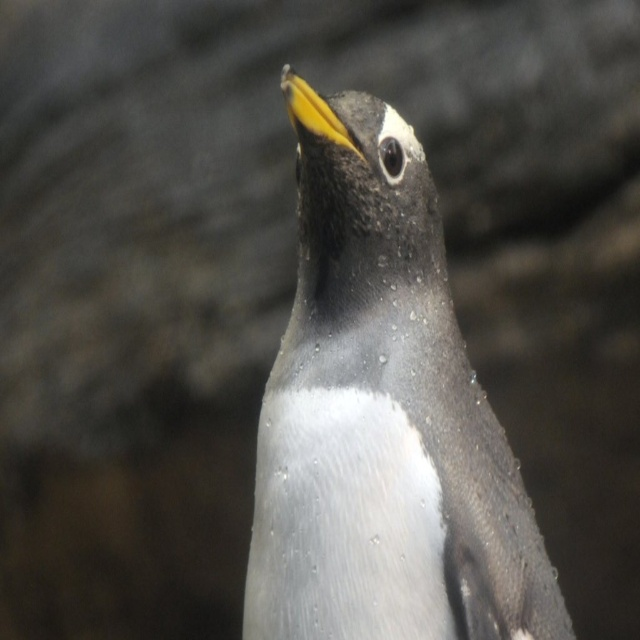Penguin: (243, 63, 576, 640)
